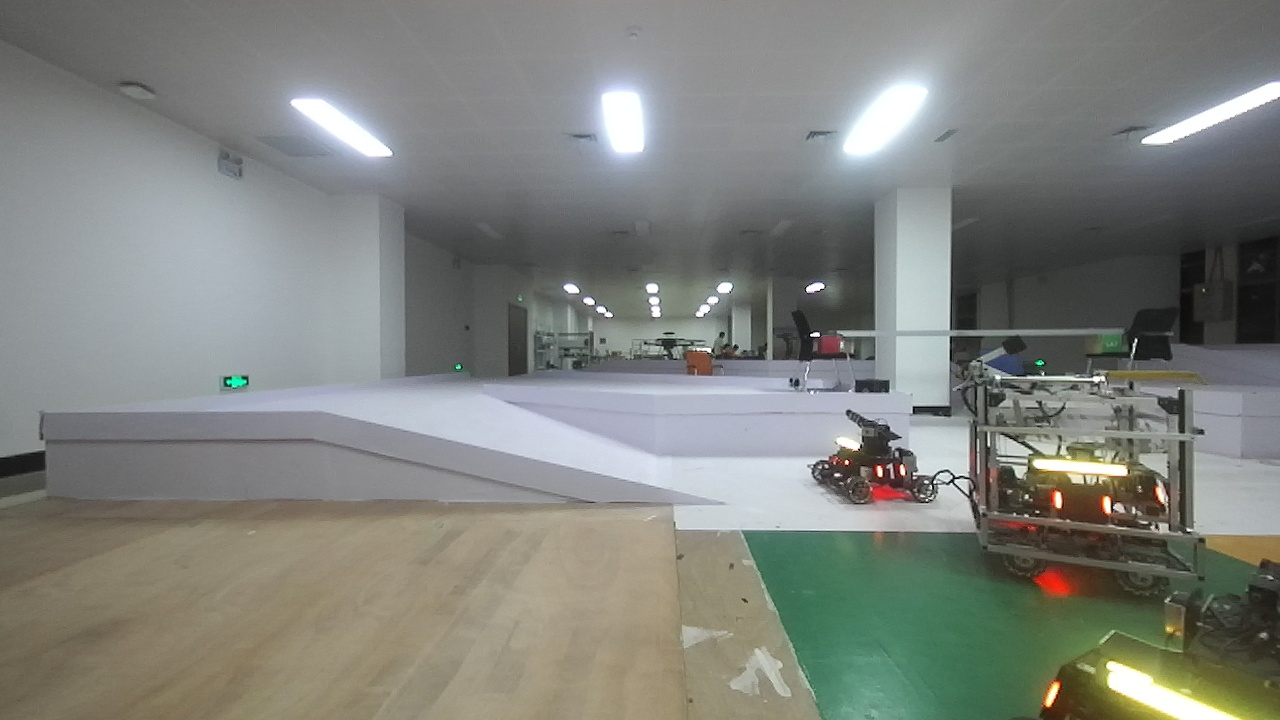car: (956, 351, 1215, 596), (1036, 560, 1280, 720), (806, 404, 944, 530)
